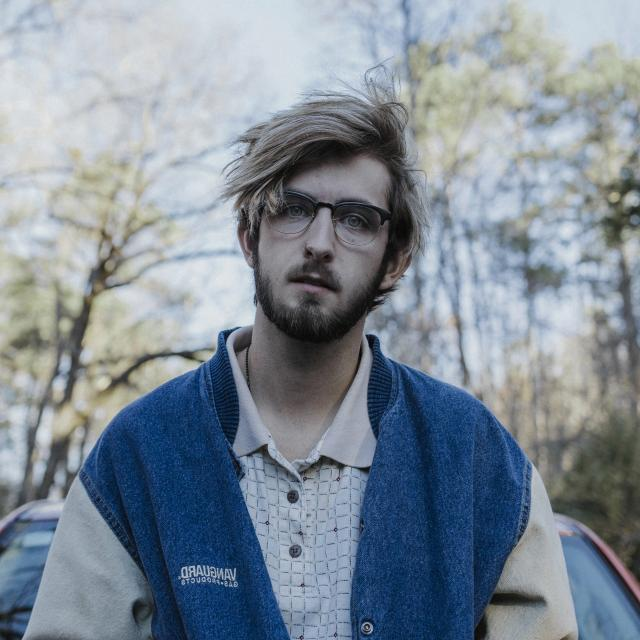adult: (25, 93, 570, 640)
